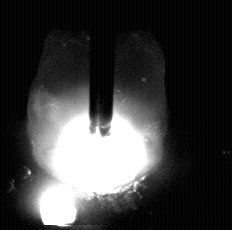arame: (90, 0, 115, 135)
poca: (28, 0, 167, 230)
